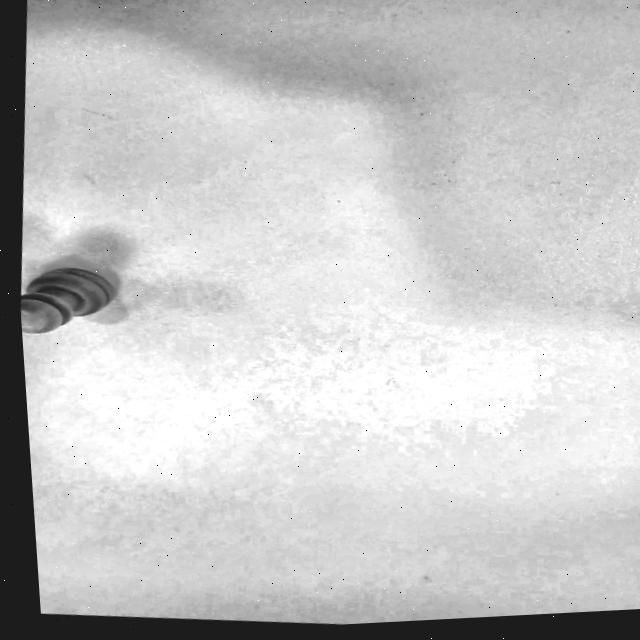white-pawn: (17, 243, 154, 363)
